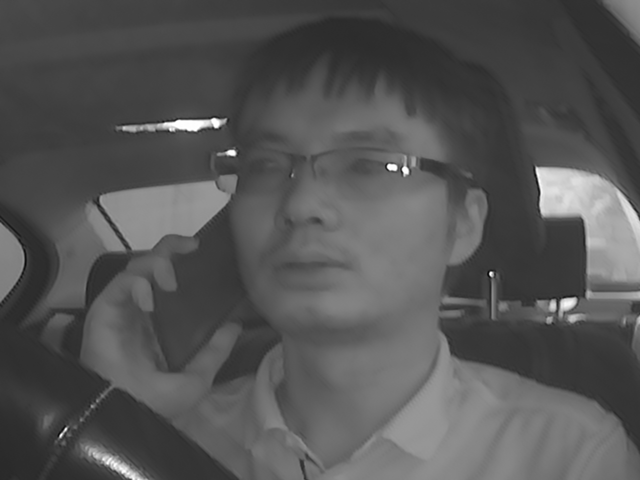hand: (94, 233, 209, 416)
